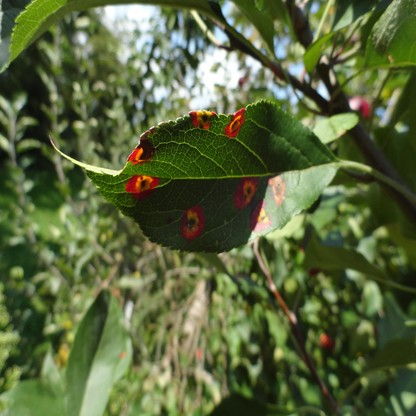rust: (125, 176, 159, 199), (235, 177, 258, 210), (223, 108, 246, 140), (251, 199, 272, 231), (127, 141, 153, 165), (183, 207, 203, 238), (266, 175, 285, 205), (190, 109, 217, 130), (118, 350, 126, 358)
